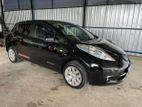car: (7, 19, 132, 88)
